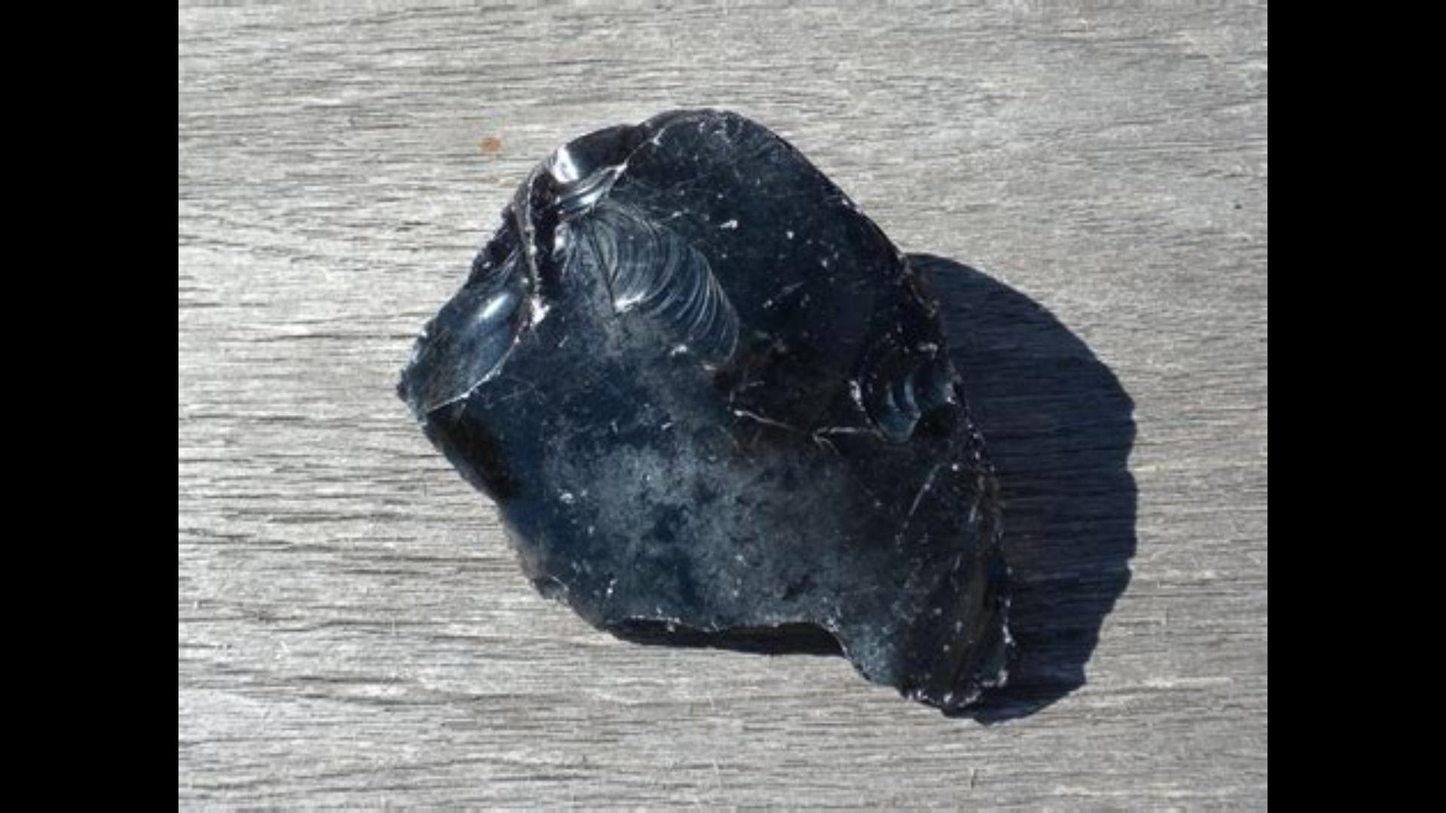rock: (399, 113, 1127, 707)
